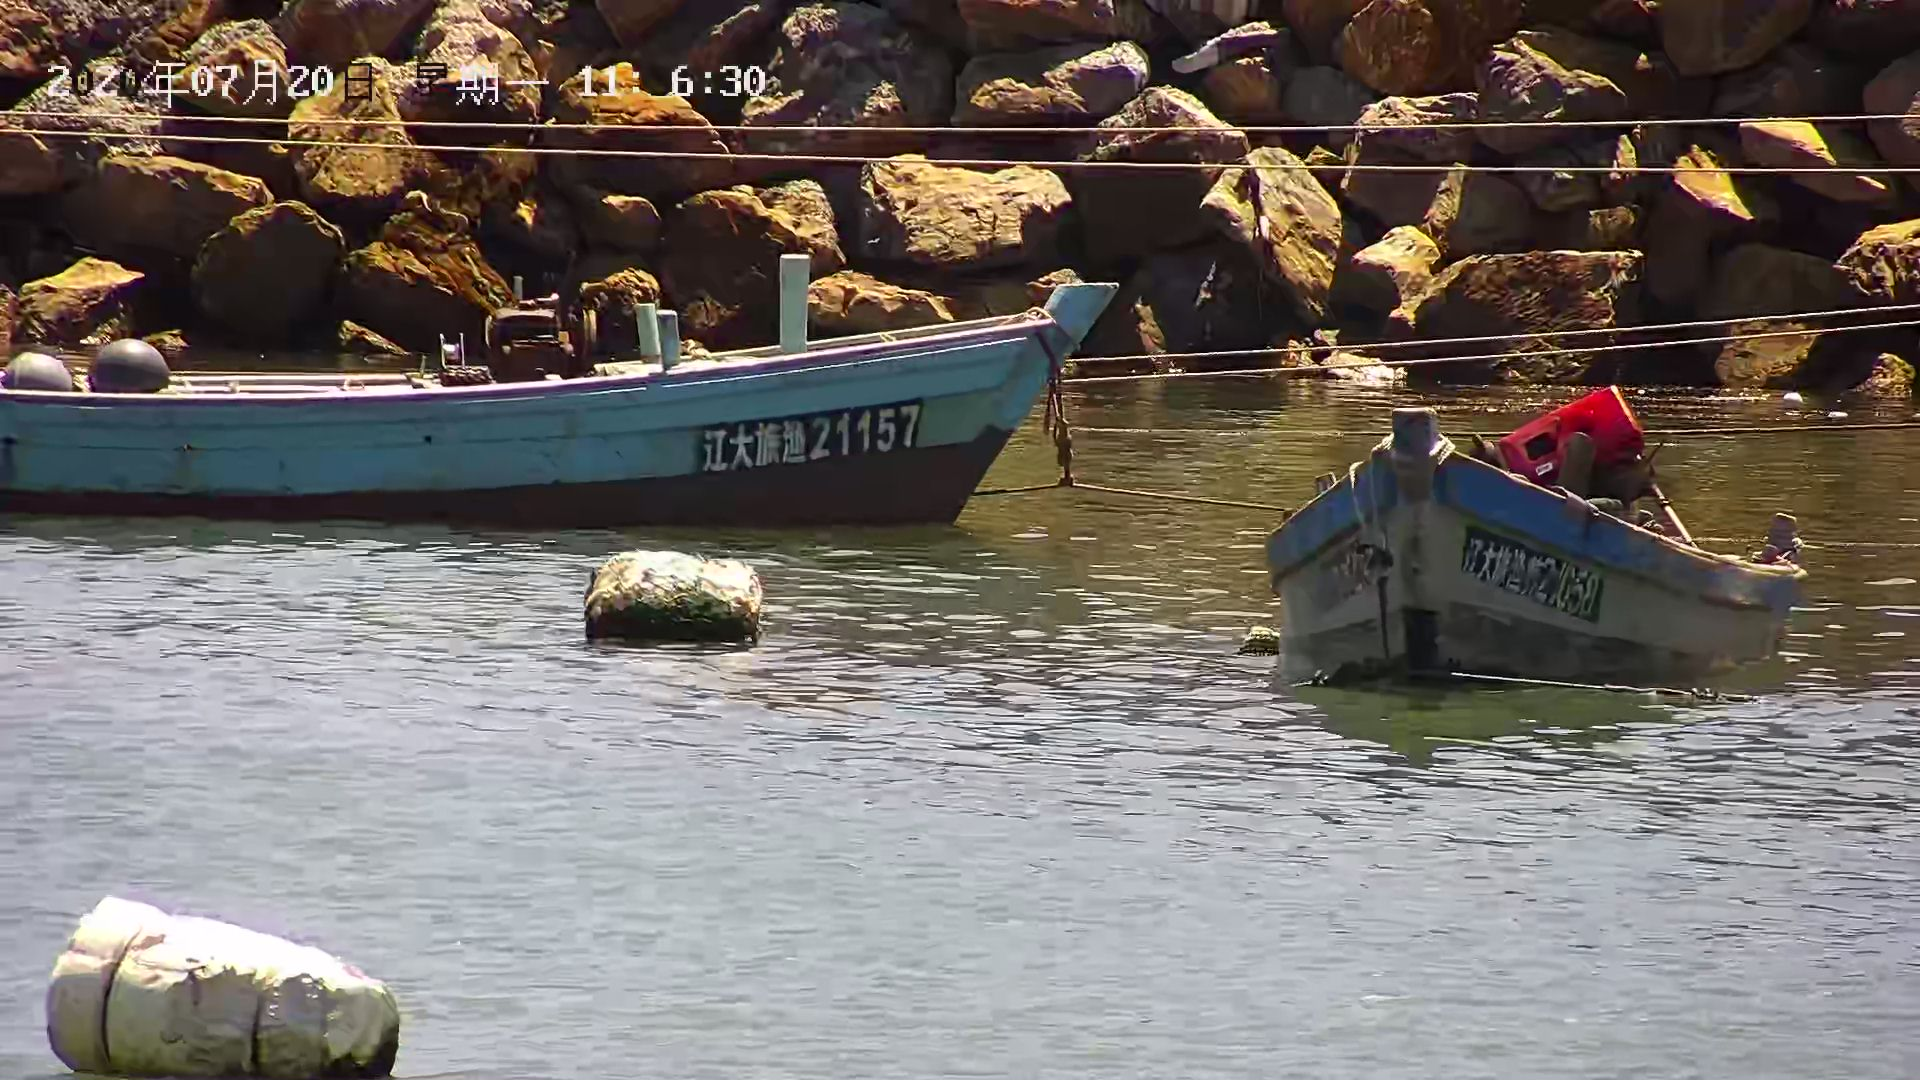boat: (1, 243, 1162, 542), (1247, 377, 1815, 705)
rubbish: (47, 902, 396, 1080), (582, 545, 767, 650)
